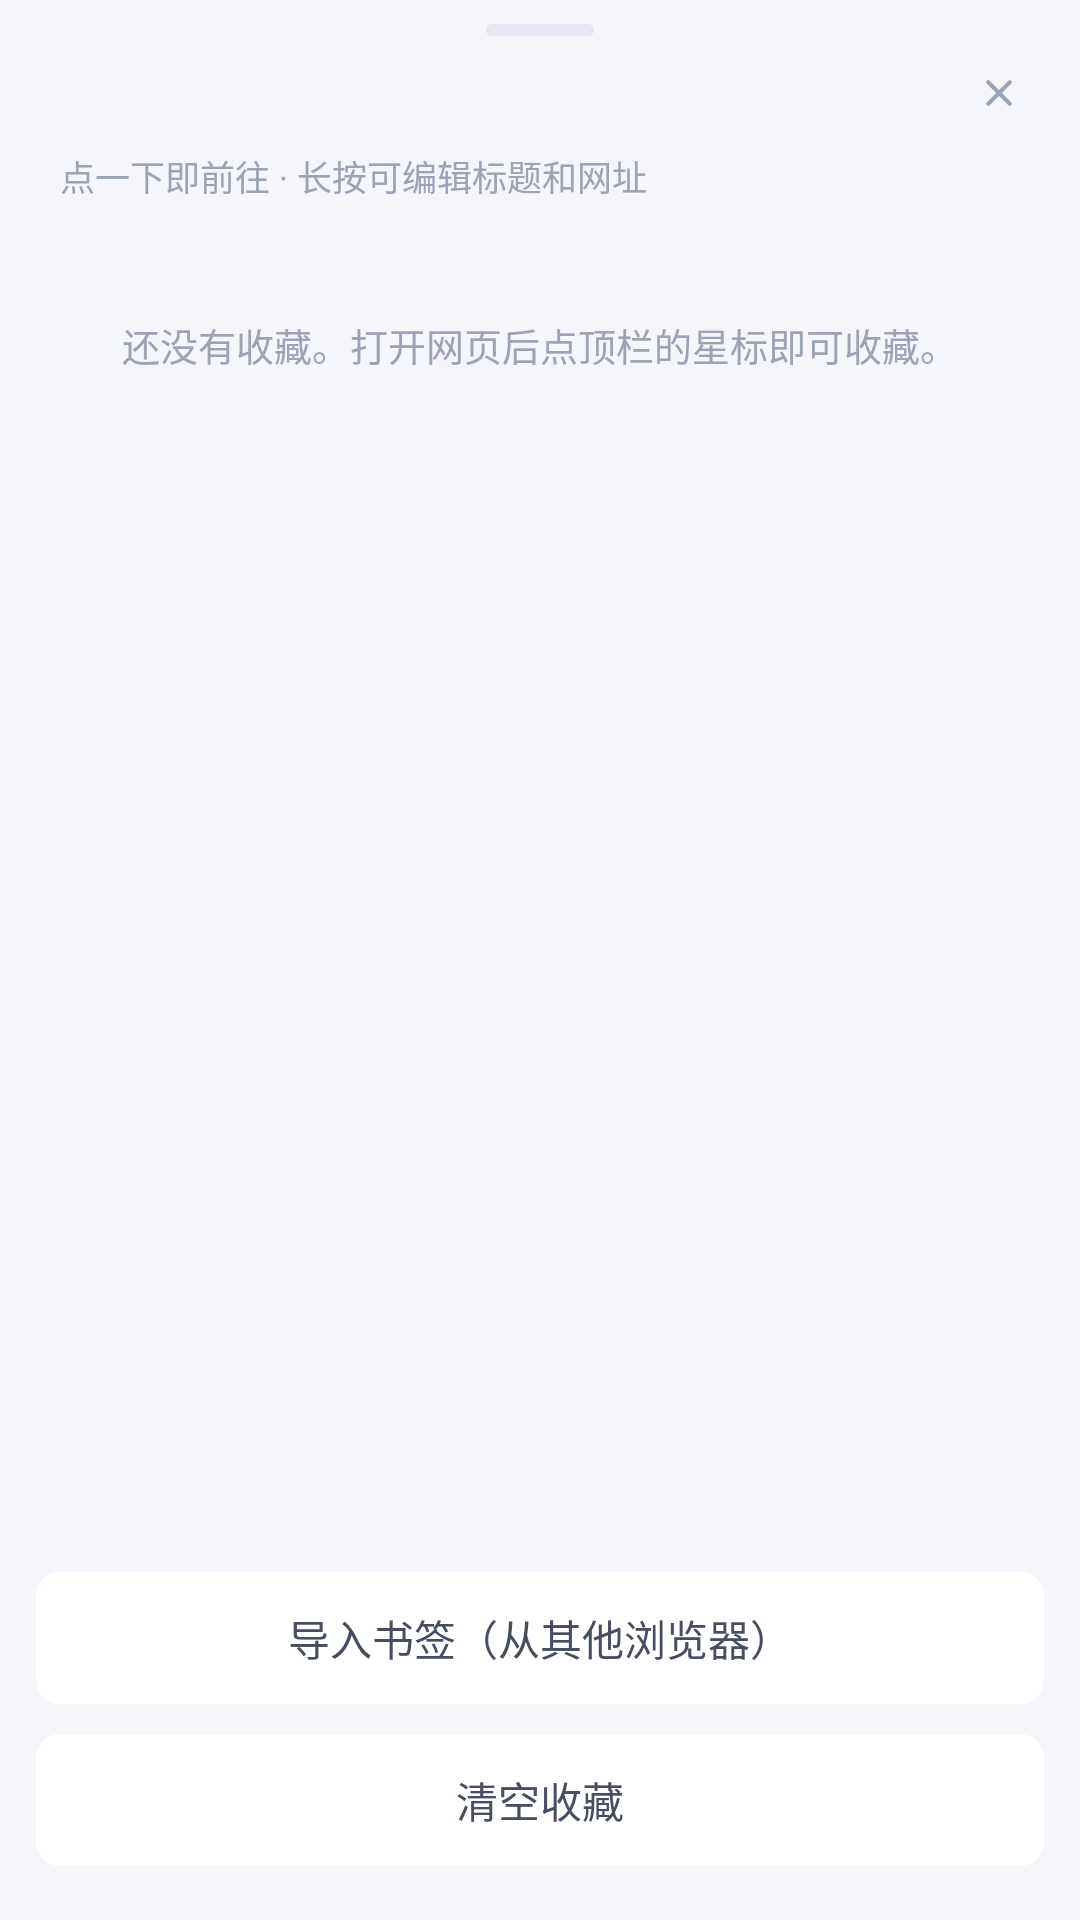

Where icons sit on this 1080 × 1920 app screen, as (x1, y1, x2, y2):
关闭: (986, 80, 1012, 106)
